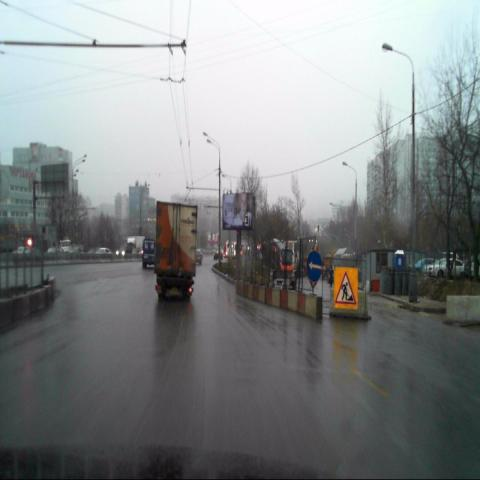4_1_2_2: (307, 251, 321, 283)
